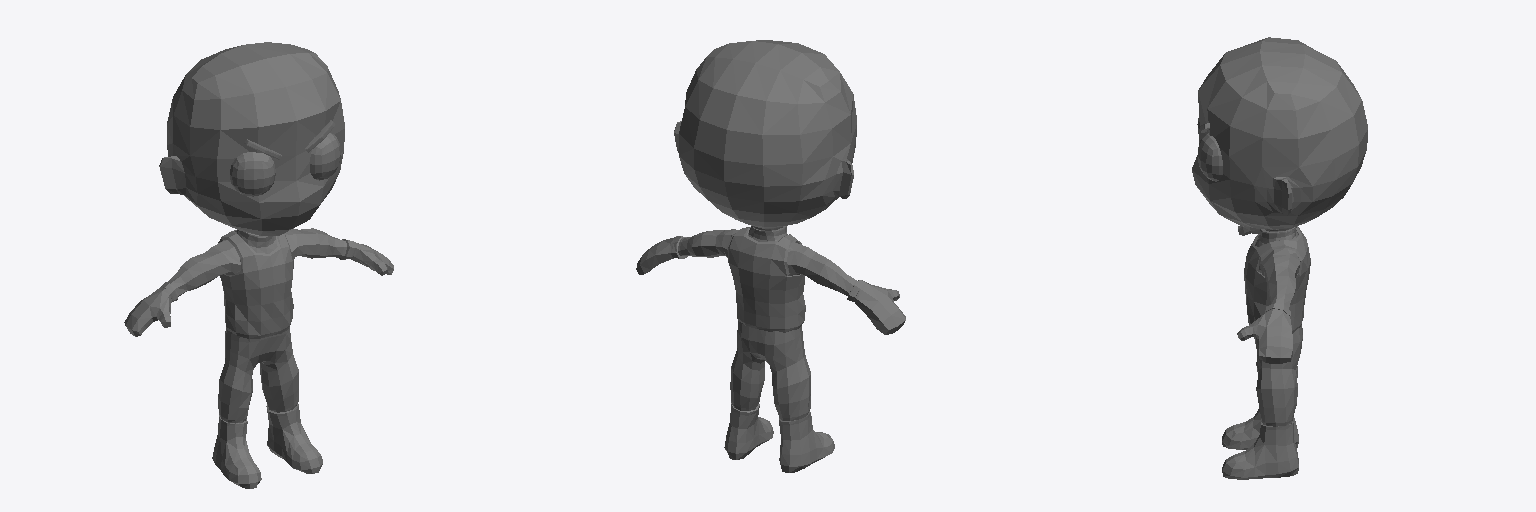
The model's file is Guardia_Exterior_Mascara_low.obj.
The picture shows the model from 3 angles: view 1: azimuth 30°, elevation 25°; view 2: azimuth 150°, elevation 25°; view 3: azimuth 270°, elevation 25°; orthographic projection.
Visible parts, largest first — view 1: Guardia_Exterior_Mascara_low:Group62273 Guardia_Exterior_Mascara, Guardia_Exterior_Mascara_low:polySurface2 Guardia_Exterior_Masca; view 2: Guardia_Exterior_Mascara_low:Group62273 Guardia_Exterior_Mascara; view 3: Guardia_Exterior_Mascara_low:Group62273 Guardia_Exterior_Mascara, Guardia_Exterior_Mascara_low:polySurface2 Guardia_Exterior_Masca.
Boxes of the visible parts, box(x1,y1,x2,y2) form: Guardia_Exterior_Mascara_low:Group62273 Guardia_Exterior_Mascara: box(124, 42, 393, 488); Guardia_Exterior_Mascara_low:polySurface2 Guardia_Exterior_Masca: box(230, 133, 340, 196); Guardia_Exterior_Mascara_low:Group62273 Guardia_Exterior_Mascara: box(636, 40, 905, 472); Guardia_Exterior_Mascara_low:Group62273 Guardia_Exterior_Mascara: box(1192, 37, 1367, 479); Guardia_Exterior_Mascara_low:polySurface2 Guardia_Exterior_Masca: box(1197, 118, 1222, 181).
Size of the model in its own units: 3.98 by 5.93 by 2.32.